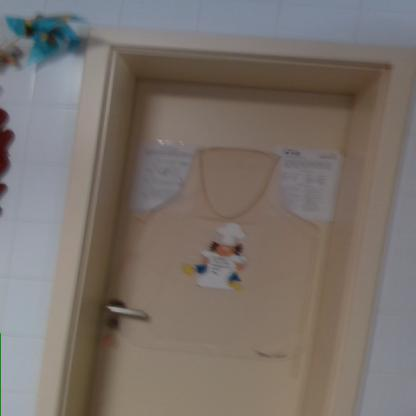door: (98, 64, 312, 415)
lever: (107, 306, 148, 322)
